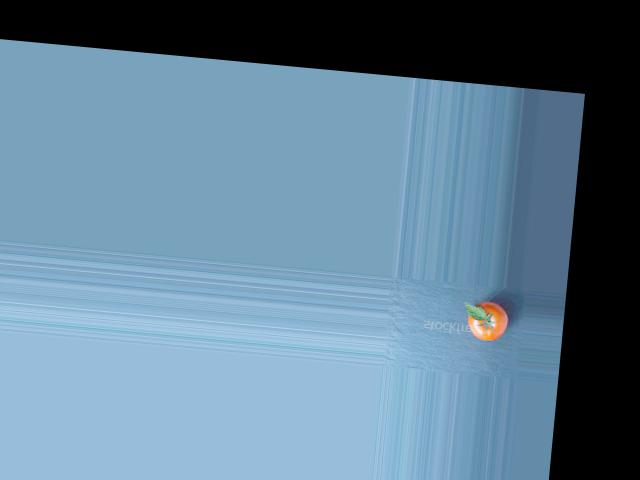tomato: (466, 300, 509, 342)
